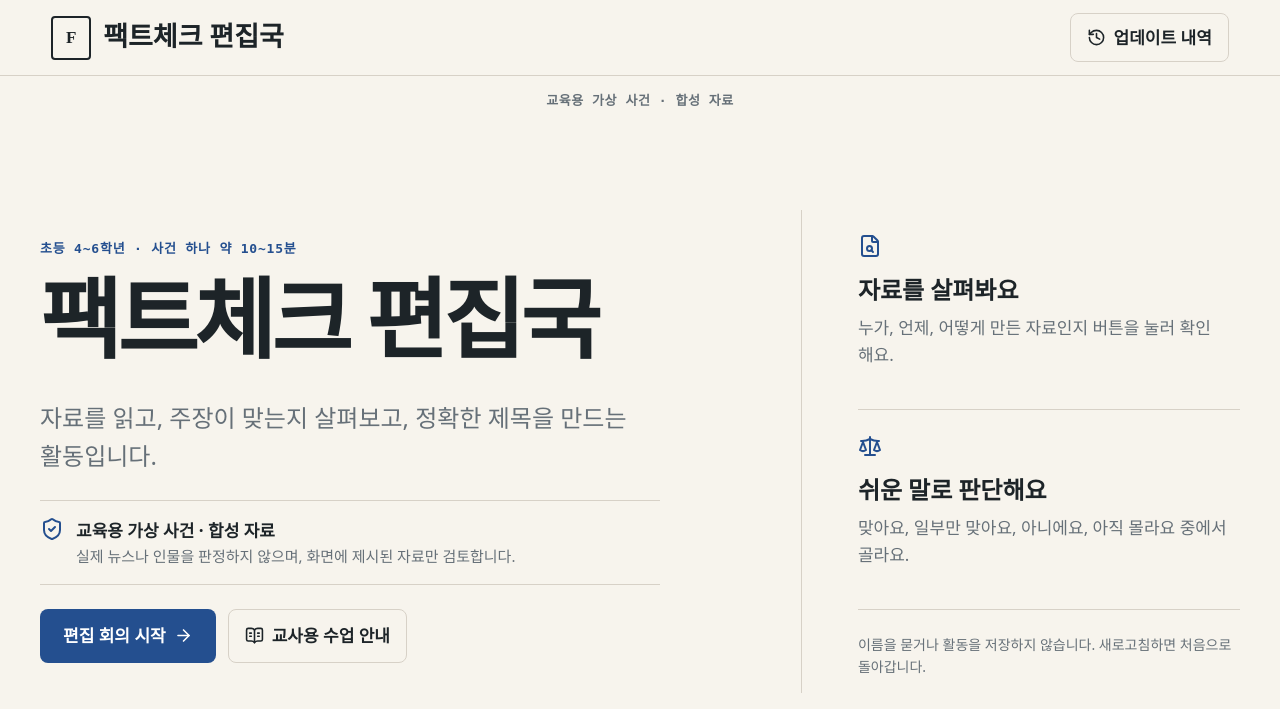
Test case: App shell and intake › renders four subject desks from the registry
The image size is (1280, 709).
What coordinates should you click on to do the following:
click the button "편집 회의 시작"
I would click on:
 (128, 636)
Its box is [40,609,216,663].
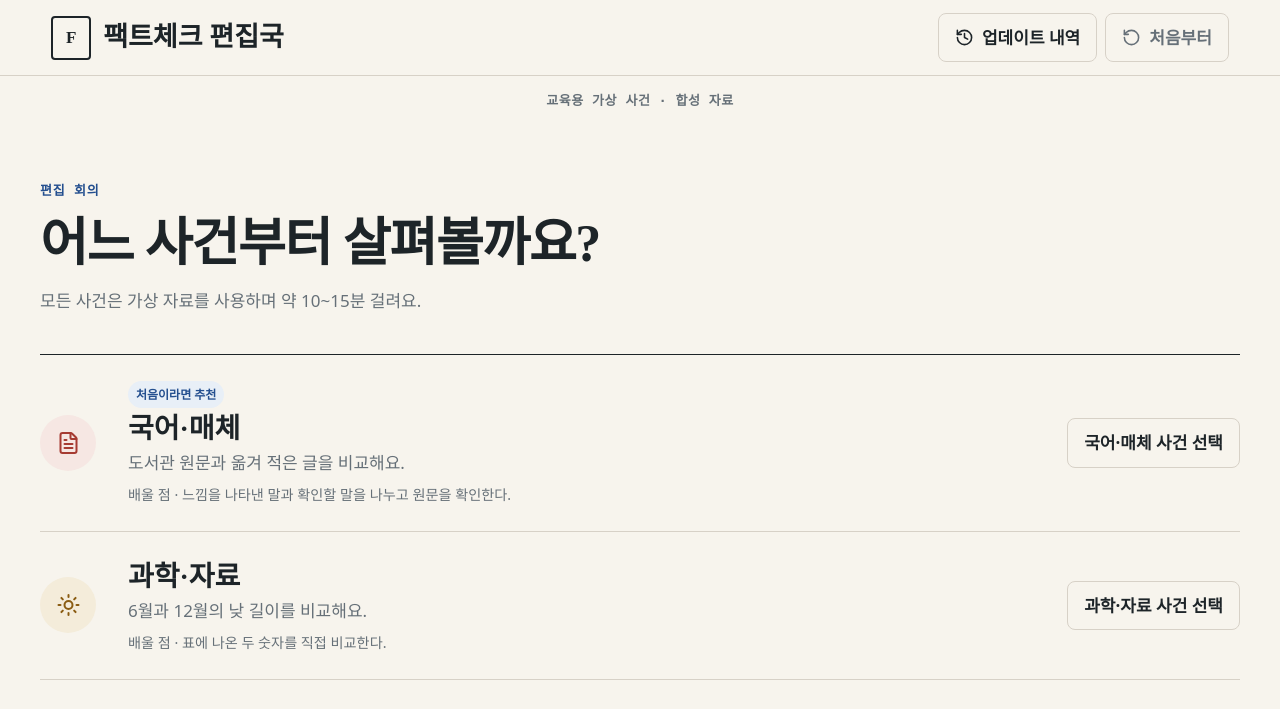
expect the number of buttons "국어·매체 사건 선택" is 4: met
